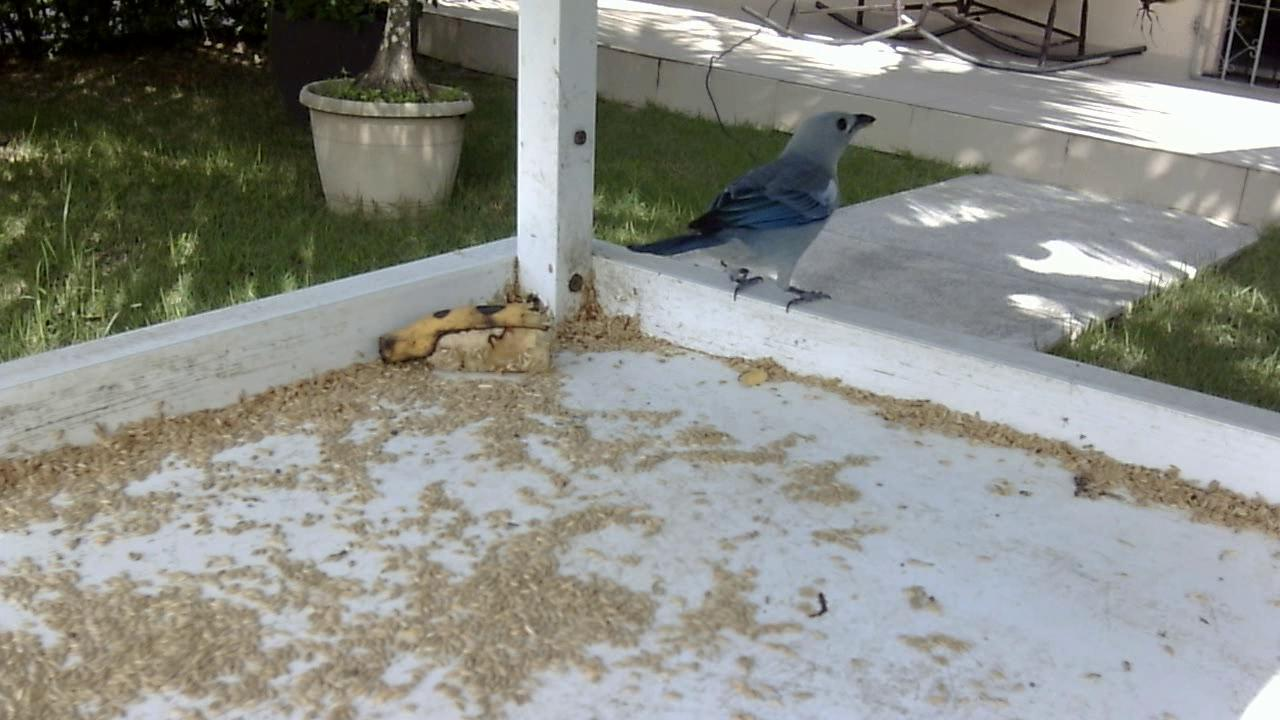sanhaco_da_amazonia: (614, 102, 885, 321)
